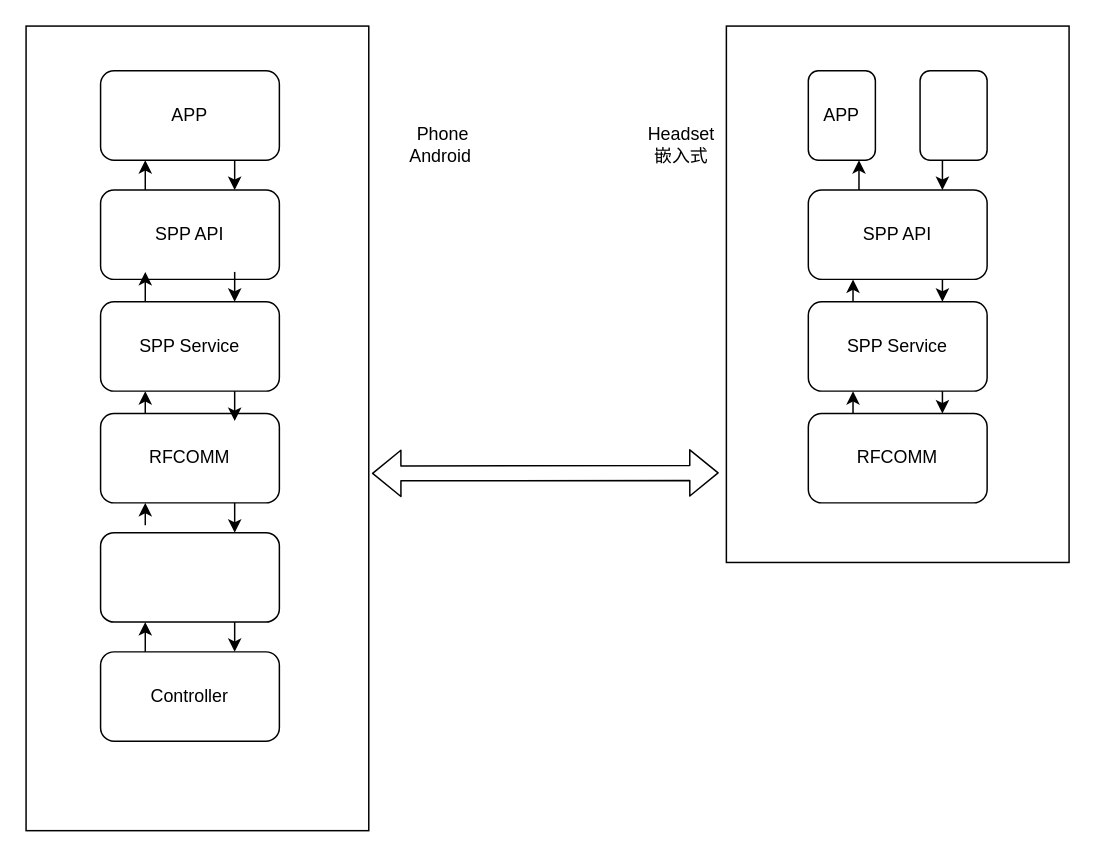
Some shapes in this 1095 by 857 pixel diagram are drawn without their labels. The centre of each missing label's shape, as x and y in pixels:
"HCI" belongs at (x=189, y=576).
"MIC" belongs at (x=953, y=114).
